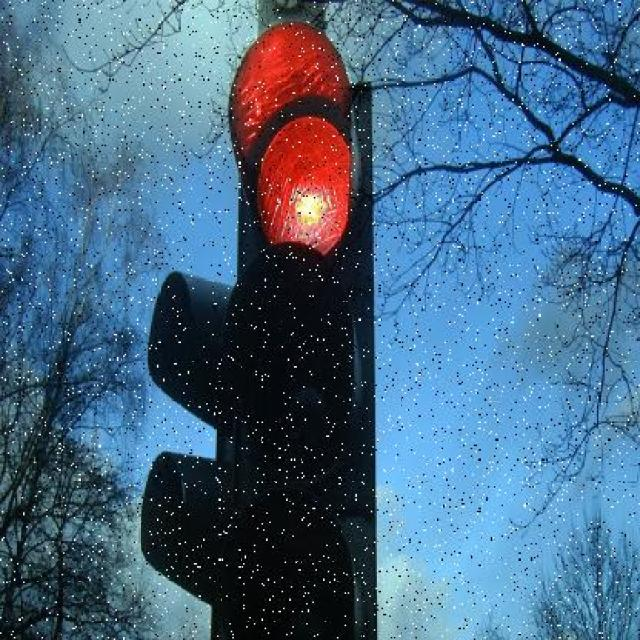red-light: (190, 31, 392, 640)
